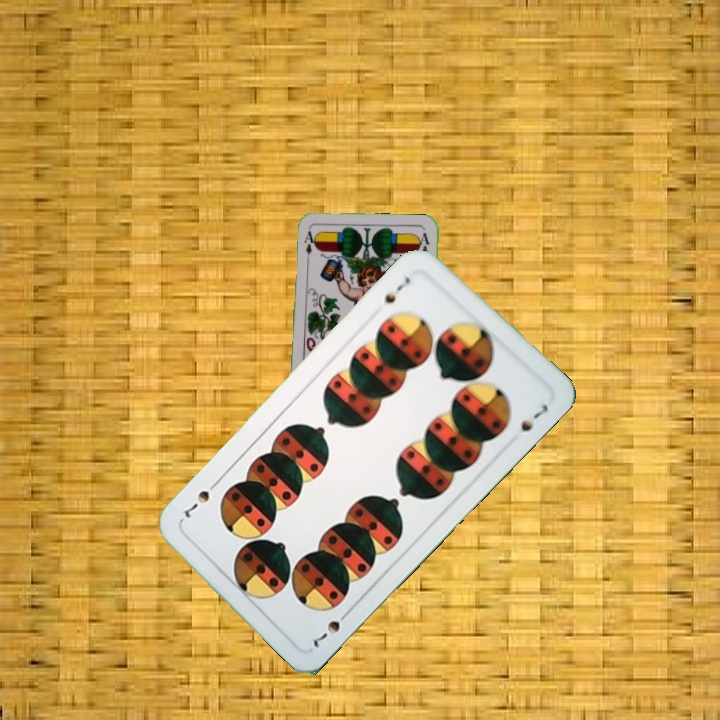EA: (300, 227, 315, 266)
S7: (309, 605, 354, 652), (379, 272, 413, 306)
